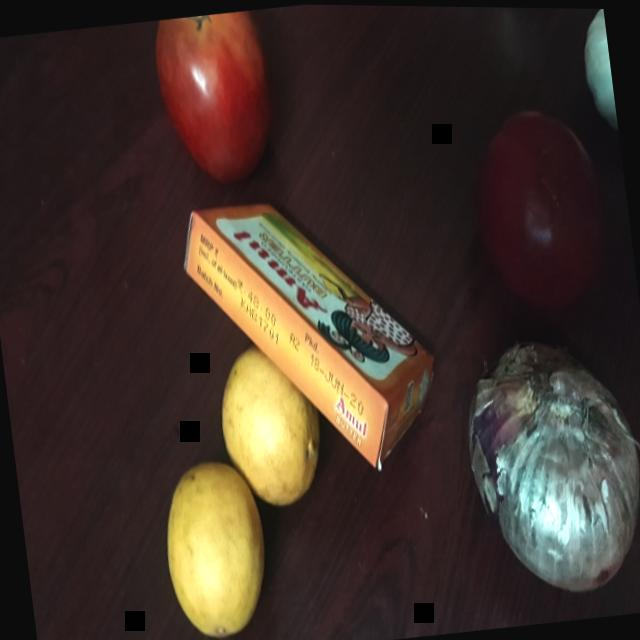butter: (172, 166, 468, 492)
lemon: (154, 450, 283, 640), (204, 331, 332, 509)
onion: (447, 324, 640, 609)
tomato: (452, 92, 628, 329), (139, 4, 300, 190)
